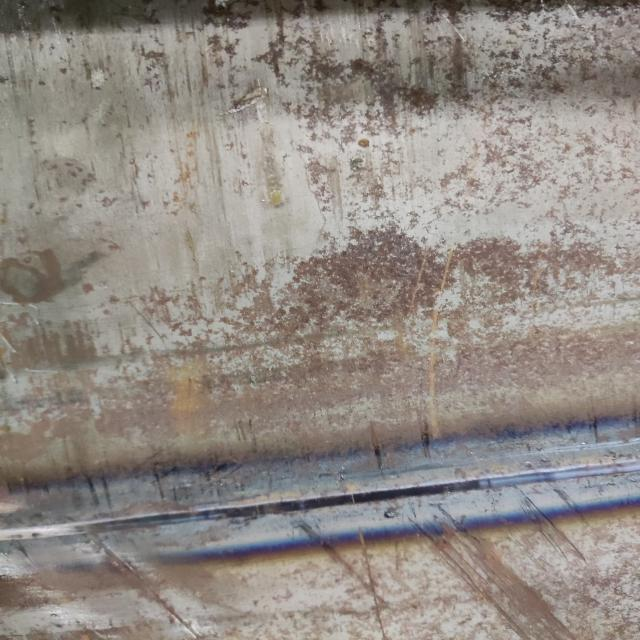seam: (0, 394, 640, 613)
